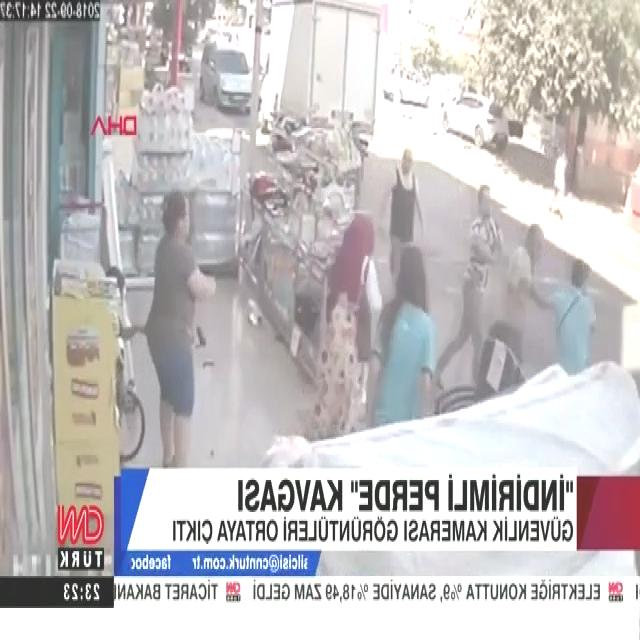fight: (433, 165, 600, 392)
